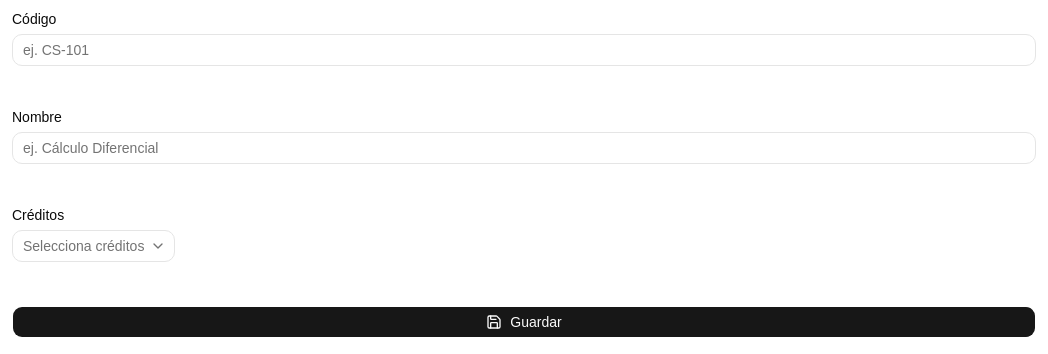
Scenario: CourseForm › shows inline error on blur when name is empty
Click the field labelled "Nombre" at (524, 148), box x1=12 y1=132 x2=1036 y2=164
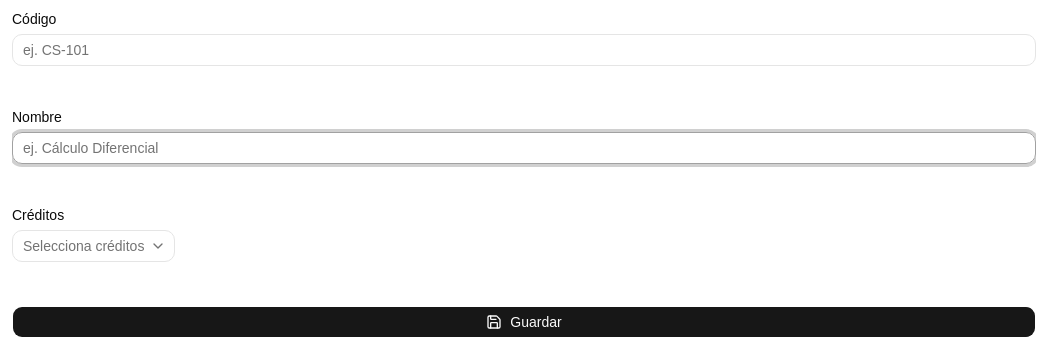
Press Tab
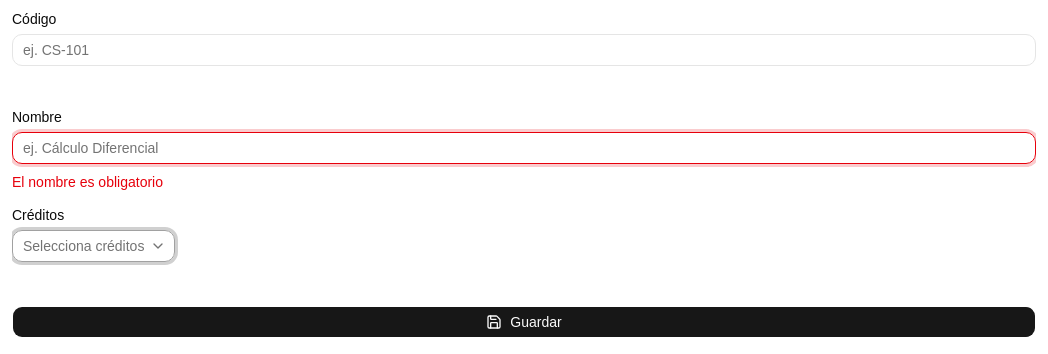
Result: the text "El nombre es obligatorio" is shown at x1=12 y1=174 x2=163 y2=190
